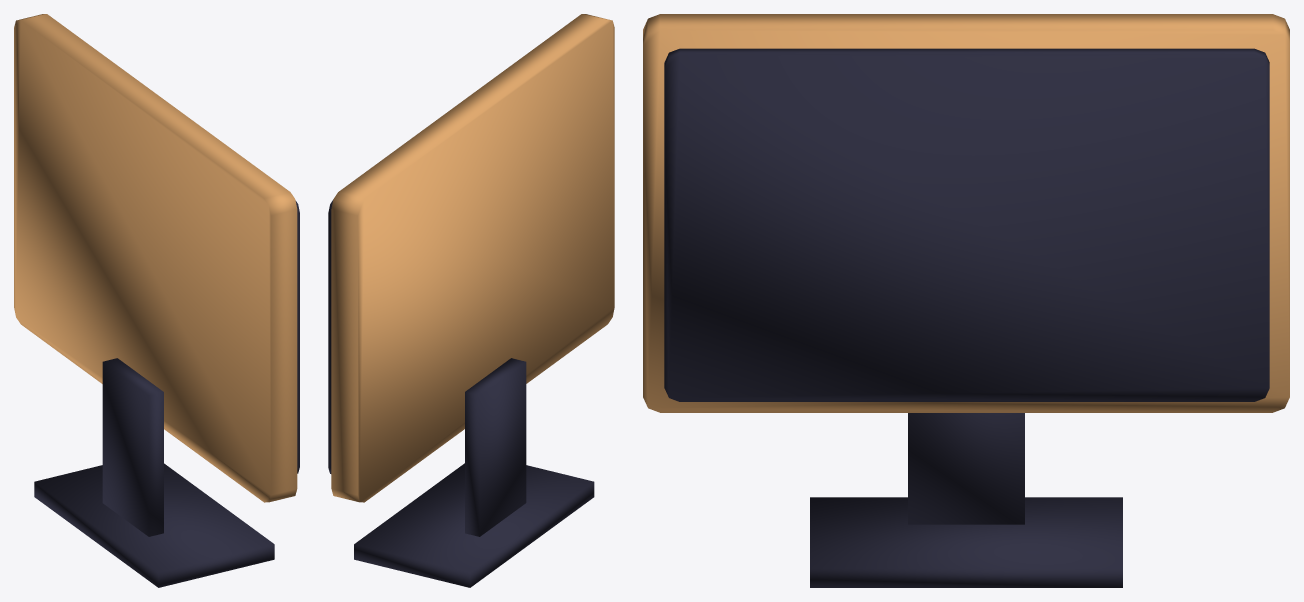
File: Bildschirm.gltf
The picture shows the model from 3 angles, left to right: view 1: azimuth 30°, elevation 25°; view 2: azimuth 150°, elevation 25°; view 3: azimuth 270°, elevation 25°; orthographic projection. The views are drawn at different scales.
Parts seen in each view (by area): view 1: Cube.006; view 2: Cube.006; view 3: Cube.006.
Boxes of the visible parts, box(x1,y1,x2,y2) form: Cube.006: box(14, 14, 299, 587); Cube.006: box(328, 14, 614, 587); Cube.006: box(643, 14, 1289, 587).
Bounding box in the file's own units: 0.0508 × 0.1762 × 0.1945.
